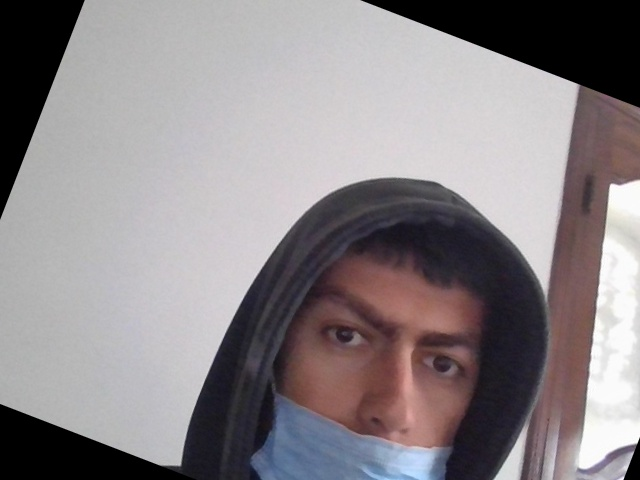mask_weared_incorrect: (263, 215, 497, 480)
